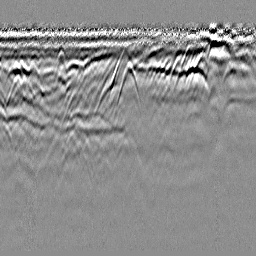cavity: (115, 60, 142, 106)
